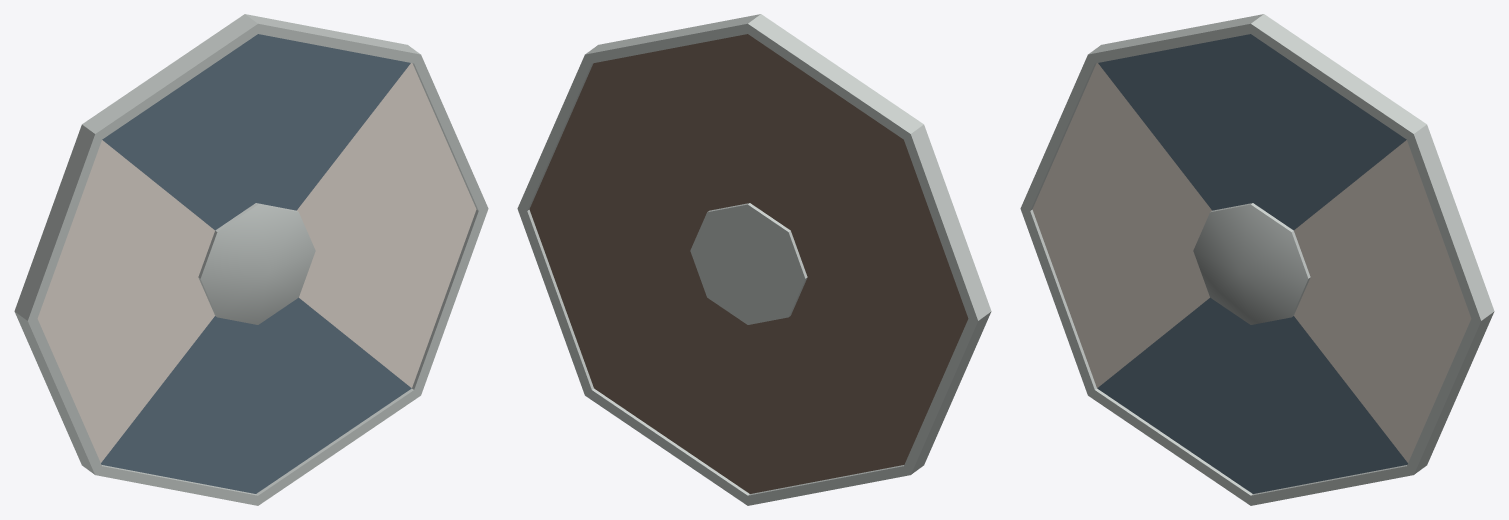
Rendered from shieldmaid_shield.fbx.
3 renders of one model, left to right at view 1: azimuth 30°, elevation 25°; view 2: azimuth 150°, elevation 25°; view 3: azimuth 330°, elevation 25°, orthographic.
Parts seen in each view (by area): view 1: shieldmaid_shield; view 2: shieldmaid_shield; view 3: shieldmaid_shield.
Part boxes in pixels (bbox=[...]): shieldmaid_shield: bbox=[14, 14, 488, 505]; shieldmaid_shield: bbox=[517, 14, 991, 505]; shieldmaid_shield: bbox=[1020, 14, 1494, 505].
Bounding box in the file's own units: 0.6 × 0.6 × 0.0531.
